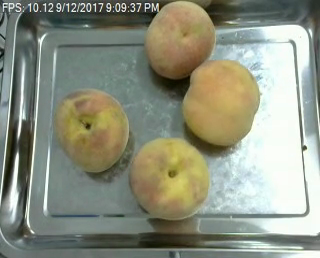Peach: (128, 136, 209, 221), (181, 59, 259, 146), (54, 89, 130, 172), (145, 0, 217, 79)
